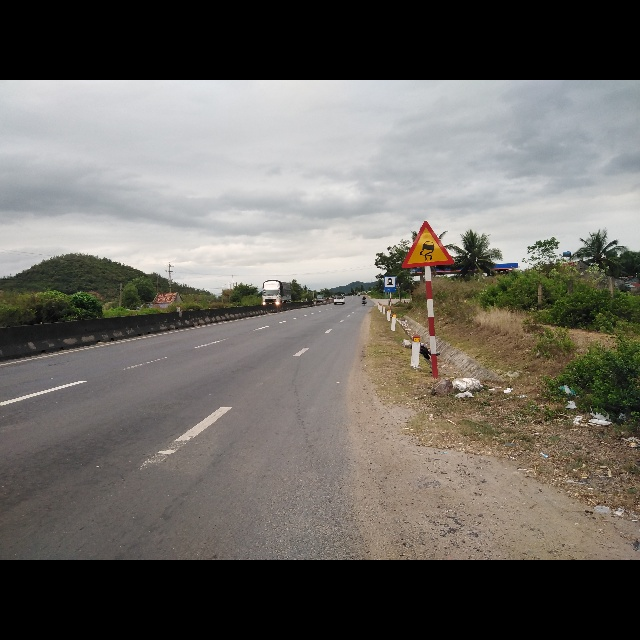Đường trơn trượt: (403, 219, 455, 270)
